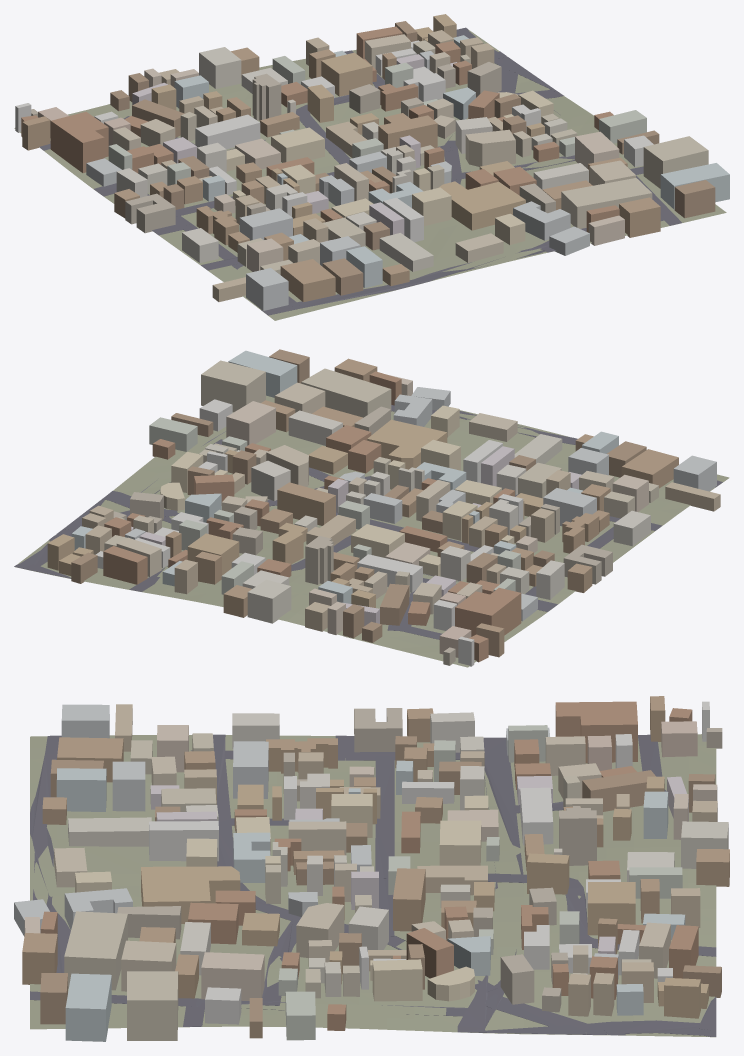
Rendered from chunk_9_4.glb.
3 renders of one model, top to bottom at view 1: azimuth 30°, elevation 25°; view 2: azimuth 150°, elevation 25°; view 3: azimuth 270°, elevation 25°, orthographic. The views are drawn at different scales.
Parts seen in each view (by area): view 1: geometry_218, geometry_31, geometry_217, geometry_204, geometry_216, geometry_185, geometry_215, geometry_12, geometry_231, geometry_73, geometry_0, geometry_125 (+71 smaller); view 2: geometry_218, geometry_204, geometry_216, geometry_31, geometry_217, geometry_8, geometry_199, geometry_2, geometry_215, geometry_185, geometry_67, geometry_3 (+82 smaller); view 3: geometry_218, geometry_204, geometry_217, geometry_216, geometry_219, geometry_31, geometry_215, geometry_224, geometry_199, geometry_231, geometry_19, geometry_223 (+113 smaller).
Part boxes in pixels (<box>): geometry_218: <box>14,29,726,320</box>; geometry_31: <box>50,111,108,172</box>; geometry_217: <box>438,181,525,230</box>; geometry_204: <box>561,178,652,228</box>; geometry_216: <box>643,136,708,188</box>; geometry_185: <box>280,259,335,302</box>; geometry_215: <box>660,163,729,209</box>; geometry_12: <box>465,129,515,166</box>; geometry_231: <box>261,214,664,315</box>; geometry_73: <box>321,52,372,96</box>; geometry_0: <box>195,114,260,149</box>; geometry_125: <box>125,193,175,233</box>; geometry_218: <box>15,395,729,667</box>; geometry_204: <box>301,368,391,417</box>; geometry_216: <box>201,360,265,412</box>; geometry_31: <box>455,588,521,636</box>; geometry_217: <box>367,419,447,469</box>; geometry_8: <box>277,482,335,525</box>; geometry_199: <box>226,401,275,445</box>; geometry_2: <box>247,579,291,623</box>; geometry_215: <box>228,350,297,397</box>; geometry_185: <box>621,449,678,488</box>; geometry_67: <box>103,546,147,584</box>; geometry_3: <box>305,535,333,584</box>; geometry_218: <box>30,734,716,1037</box>; geometry_204: <box>64,911,127,990</box>; geometry_217: <box>141,866,240,923</box>; geometry_216: <box>127,971,178,1040</box>; geometry_219: <box>457,737,523,1032</box>; geometry_31: <box>555,701,637,763</box>; geometry_215: <box>65,973,111,1041</box>; geometry_224: <box>375,756,394,936</box>; geometry_199: <box>201,952,264,1000</box>; geometry_231: <box>30,735,70,972</box>; geometry_19: <box>68,817,151,846</box>; geometry_223: <box>213,734,348,933</box>.
Bounding box in the file's own units: 273 × 24.86 × 261.
